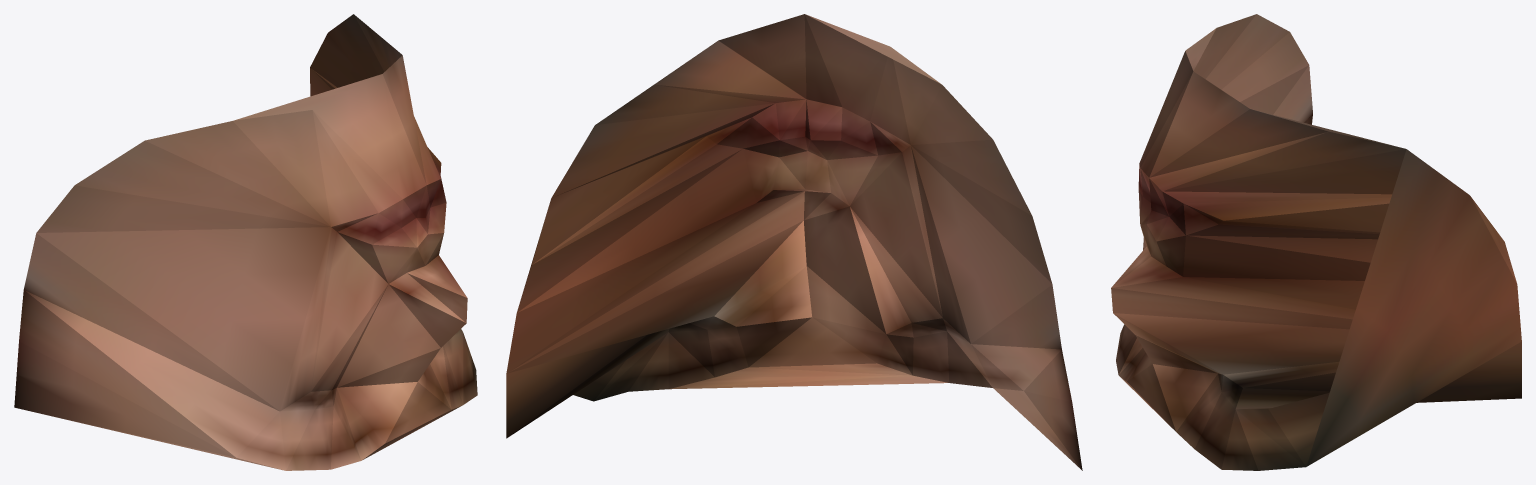
File: fake_45651.obj
3 views of the same model, side by side, from view 1: azimuth 30°, elevation 25°; view 2: azimuth 150°, elevation 25°; view 3: azimuth 270°, elevation 25° (orthographic). The views are drawn at different scales.
Bounding box in the file's own units: 126 × 97 × 104.
